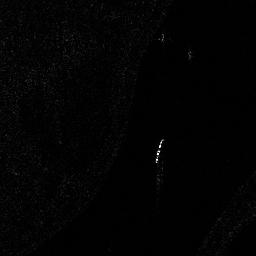ship: (155, 137, 165, 163)
